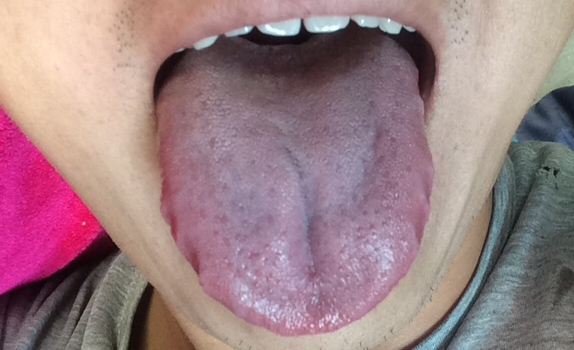chihenshe: (405, 193, 439, 249), (172, 233, 203, 291)
zishe: (157, 22, 435, 337)
